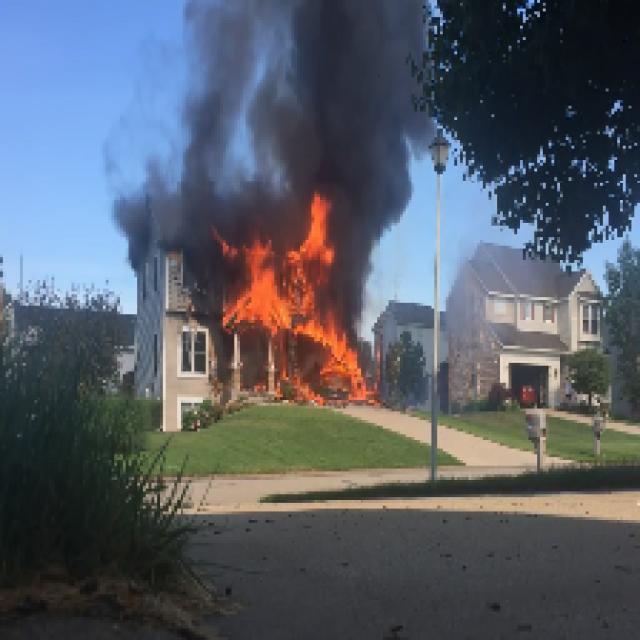Fire: (228, 243, 286, 326), (294, 318, 357, 386), (306, 194, 334, 269)
Smoke: (286, 2, 432, 188), (177, 2, 289, 228), (109, 37, 174, 237), (437, 225, 523, 348), (346, 197, 403, 317)
